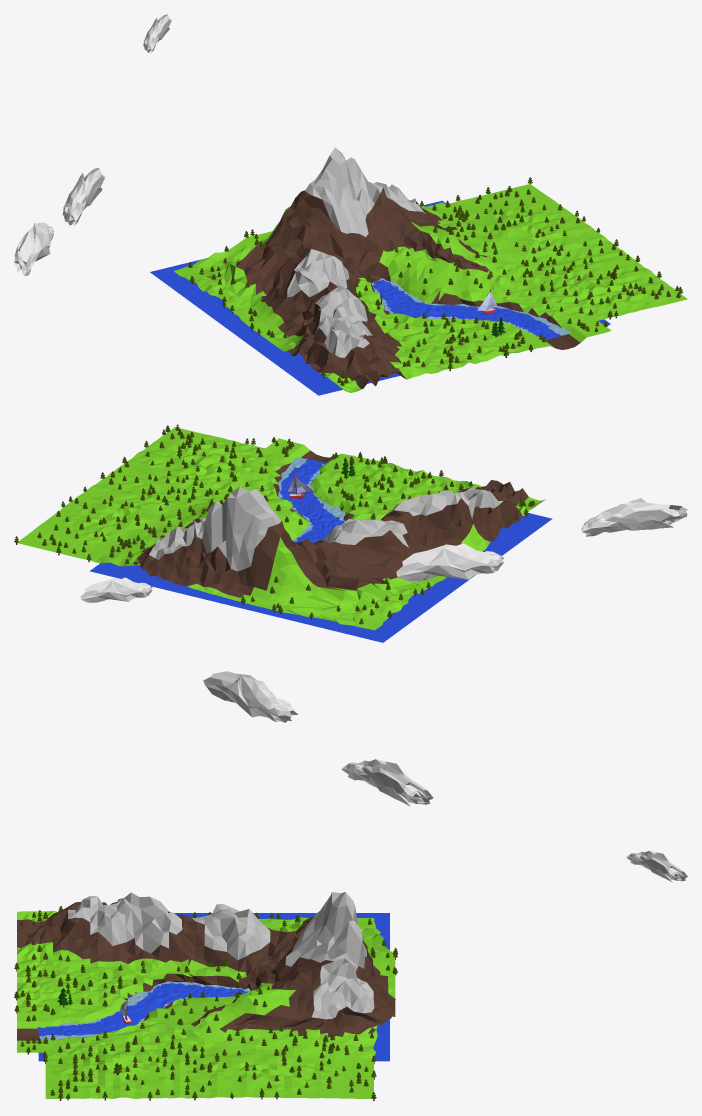
The model's file is landscape.glb.
The picture shows the model from 3 angles, top to bottom: view 1: azimuth 30°, elevation 25°; view 2: azimuth 150°, elevation 25°; view 3: azimuth 270°, elevation 25°; orthographic projection. The views are drawn at different scales.
Parts seen in each view (by area): view 1: Plane, Plane.001, Cube.001, Cube.002, Cube.003; view 2: Plane, Plane.001, Cube.002, Cube.001, Cube.003; view 3: Plane, Plane.001, Cube.001, Cube.002, Cube.003.
Boxes of the visible parts, x1,y1,x2,y2 form: Plane: [174, 147, 687, 392]; Plane.001: [150, 200, 610, 395]; Cube.001: [14, 222, 53, 275]; Cube.002: [62, 167, 105, 225]; Cube.003: [143, 14, 171, 52]; Plane: [17, 427, 545, 630]; Plane.001: [90, 457, 552, 642]; Cube.002: [396, 543, 503, 580]; Cube.001: [581, 498, 687, 536]; Cube.003: [80, 577, 152, 602]; Plane: [17, 892, 395, 1098]; Plane.001: [37, 913, 389, 1061]; Cube.001: [203, 671, 298, 722]; Cube.002: [341, 759, 433, 806]; Cube.003: [626, 850, 687, 882].
Bounding box in the file's own units: 48.32 × 11.75 × 45.87.
